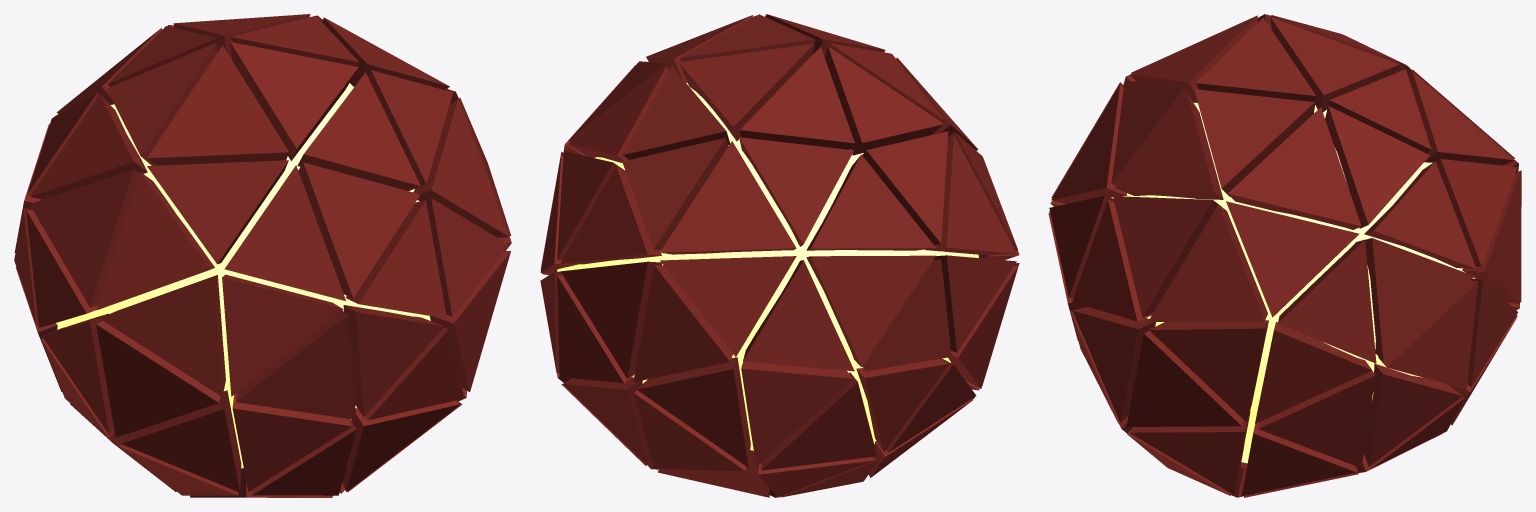
The model's file is pyro.glb.
3 views of the same model, side by side, from view 1: azimuth 30°, elevation 25°; view 2: azimuth 150°, elevation 25°; view 3: azimuth 270°, elevation 25° (orthographic). The views are drawn at different scales.
Parts seen in each view (by area): view 1: pyro / basalt / pyro dark structure, pyro / molten / pyro emissive insert; view 2: pyro / basalt / pyro dark structure, pyro / molten / pyro emissive insert; view 3: pyro / basalt / pyro dark structure, pyro / molten / pyro emissive insert.
Part boxes in pixels (bbox=[...]): pyro / basalt / pyro dark structure: bbox=[14, 14, 511, 497]; pyro / molten / pyro emissive insert: bbox=[56, 83, 430, 468]; pyro / basalt / pyro dark structure: bbox=[540, 14, 1019, 497]; pyro / molten / pyro emissive insert: bbox=[557, 82, 978, 451]; pyro / basalt / pyro dark structure: bbox=[1048, 14, 1521, 497]; pyro / molten / pyro emissive insert: bbox=[1111, 102, 1475, 463].
Size of the model in its own units: 43.71 by 42.85 by 42.79.
